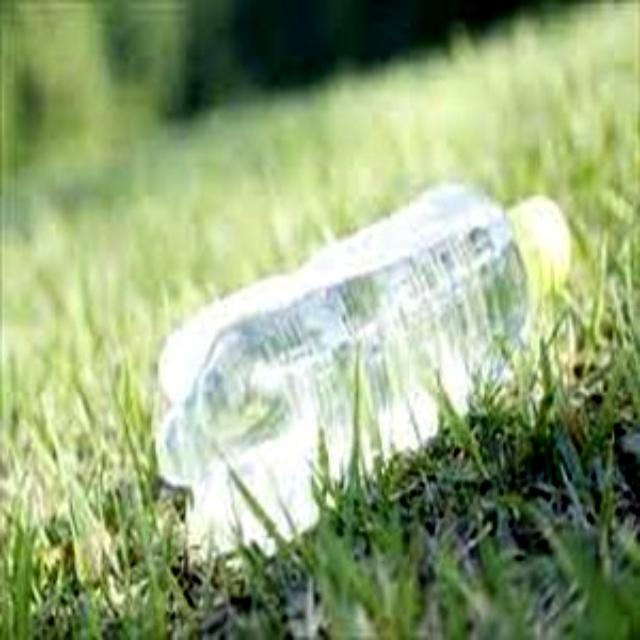Plastic: (148, 173, 576, 552)
